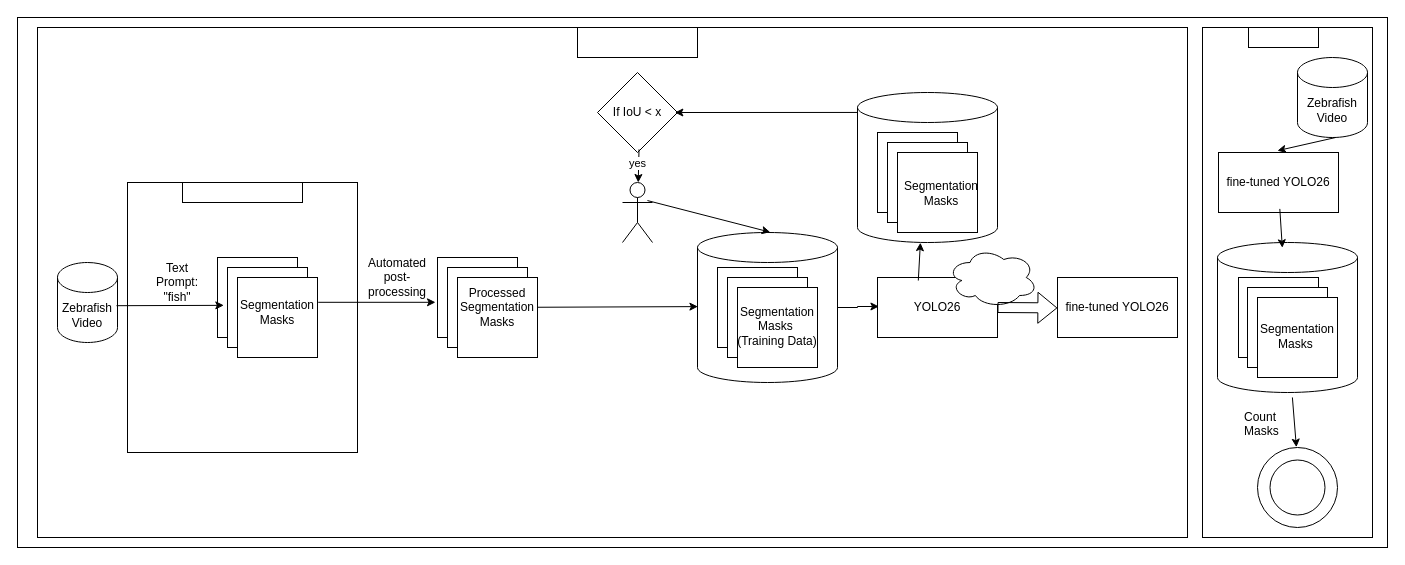
This 1405x565 diagram has some shape labels left out. Each missing label, with the centre of its shape:
"Annotator" goes at pixel 637 212.
"Inference" goes at pixel 1283 37.
"Pipeline" goes at pixel 637 42.
"Segment Anything 3" goes at pixel 242 192.
"Training" goes at pixel 992 277.
